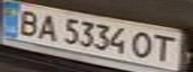3: (90, 21, 112, 52), (75, 19, 96, 49)
4: (109, 25, 130, 55)
5: (57, 16, 81, 46)
A: (33, 11, 60, 42)
B: (12, 7, 45, 36)
O: (127, 29, 157, 60)
T: (148, 33, 181, 63)
